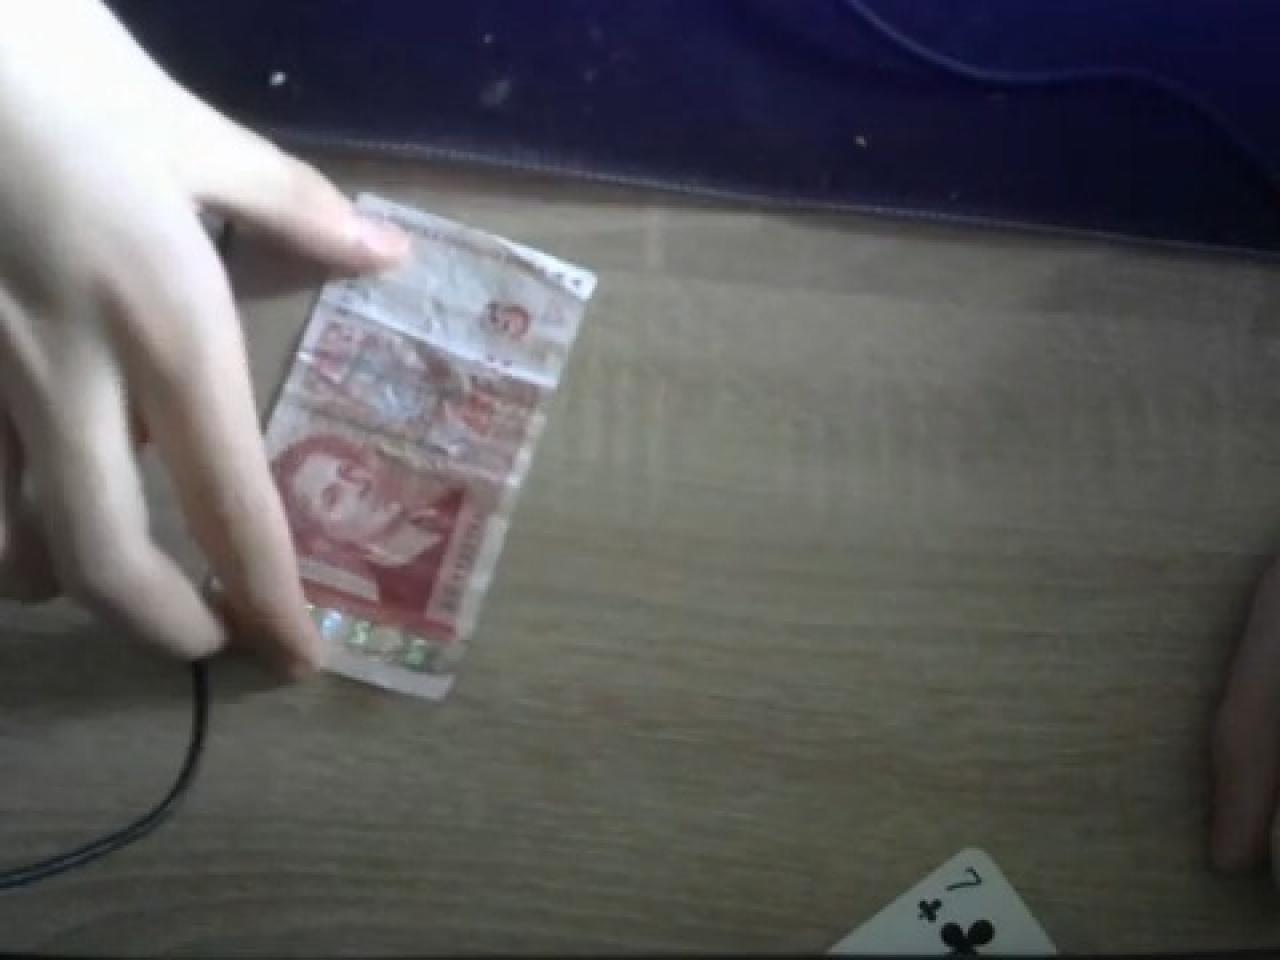5leva: (261, 195, 597, 704)
